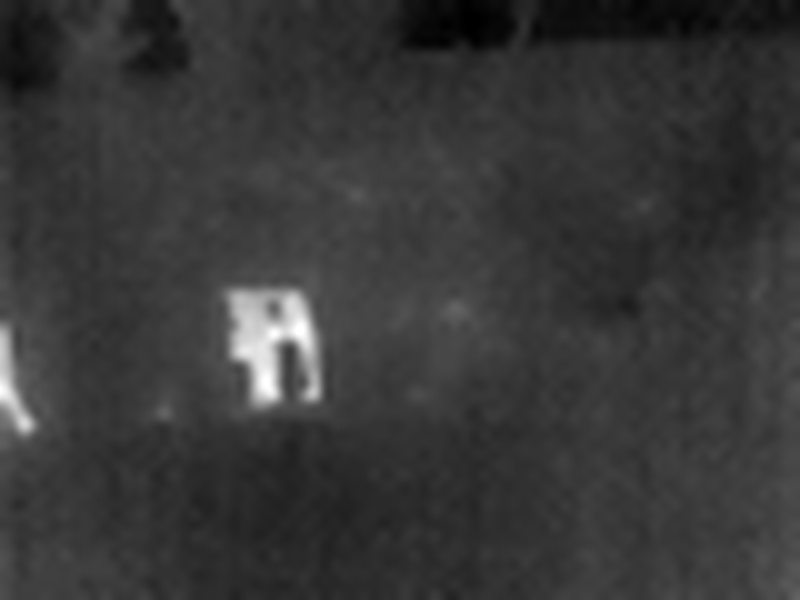elephant: (192, 277, 331, 410), (1, 306, 33, 415)
